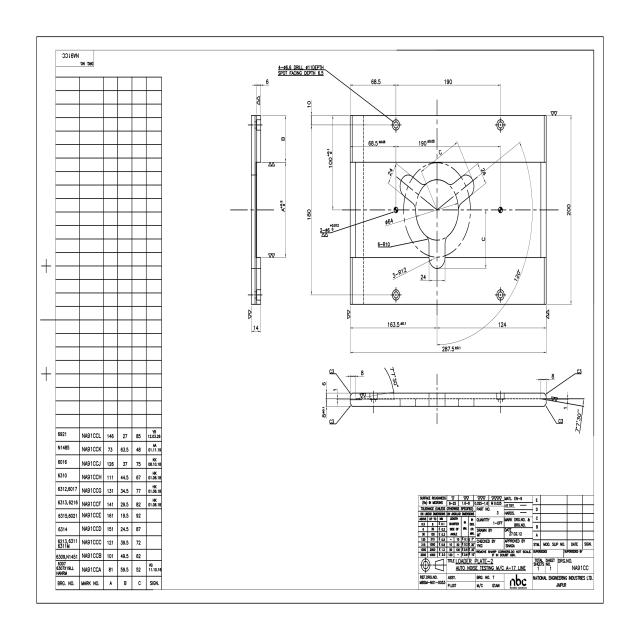dimension: (277, 63, 325, 77), (388, 363, 400, 389), (391, 266, 408, 279), (319, 222, 339, 233), (366, 138, 387, 148), (575, 408, 583, 434), (386, 320, 406, 328), (442, 345, 462, 353), (326, 148, 333, 170), (417, 139, 435, 147), (513, 266, 522, 282), (383, 216, 396, 226), (376, 240, 392, 248), (388, 166, 396, 181), (480, 165, 488, 179), (370, 77, 382, 86), (444, 77, 454, 86), (566, 202, 572, 217), (306, 208, 312, 222), (252, 323, 261, 332), (497, 320, 507, 328), (280, 199, 286, 212), (420, 272, 427, 282), (321, 406, 326, 419), (306, 99, 312, 109), (328, 367, 335, 375), (328, 417, 335, 425), (437, 148, 443, 157), (557, 417, 564, 424), (576, 367, 582, 375), (359, 368, 365, 376), (265, 77, 270, 86), (550, 372, 556, 379), (321, 379, 327, 386), (481, 235, 486, 243), (280, 135, 285, 142), (563, 405, 568, 411), (332, 387, 338, 392)
